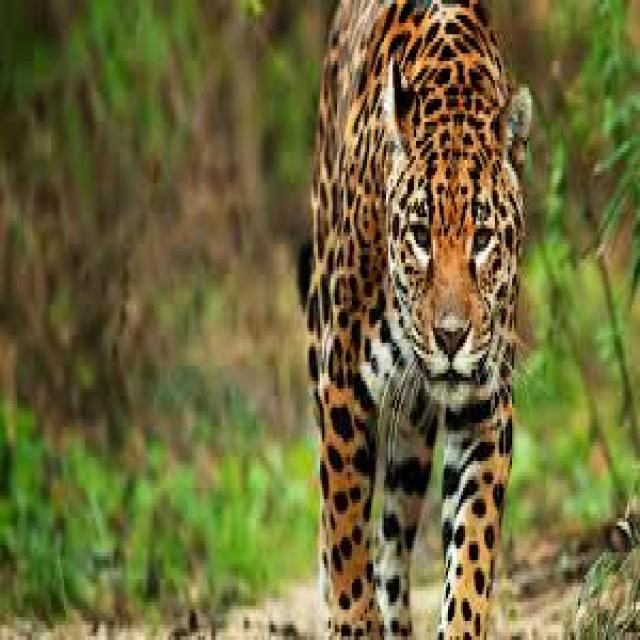Jaguar: (309, 0, 527, 640)
